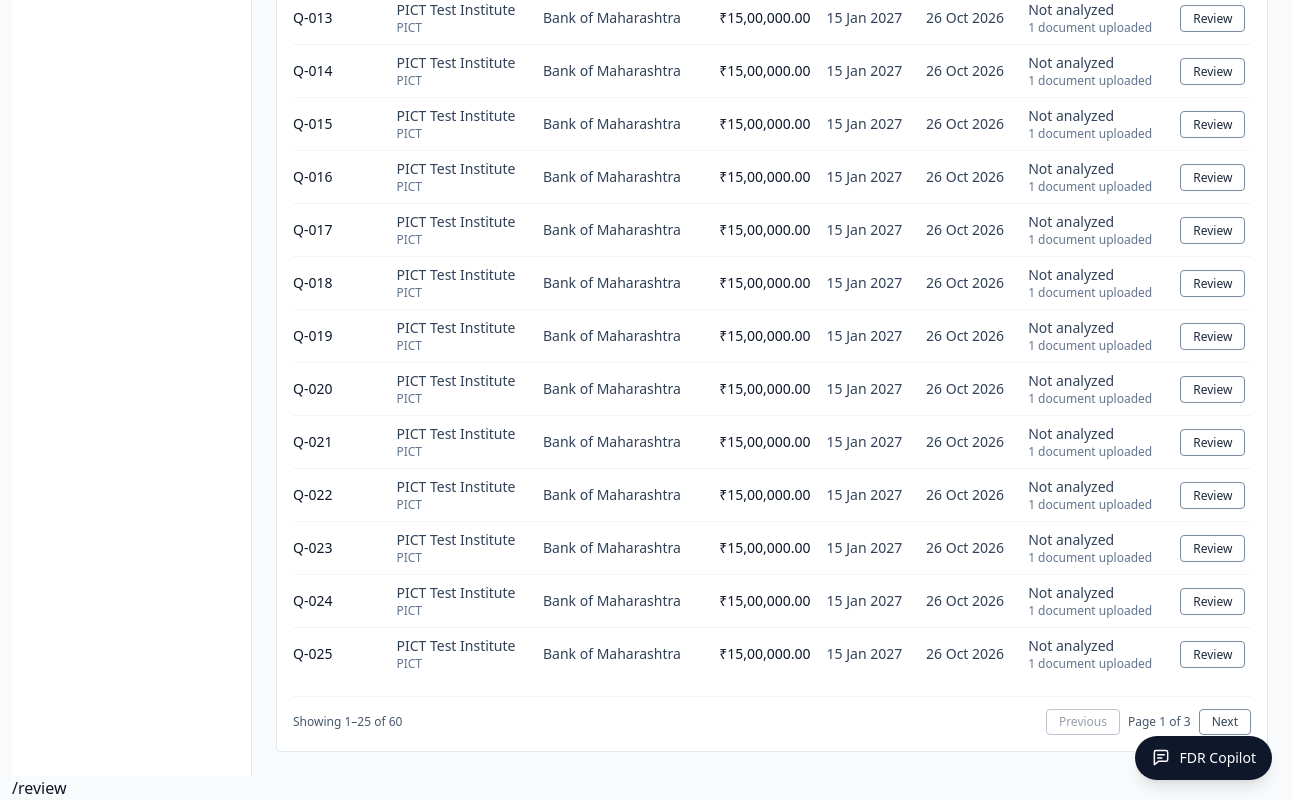
Test case: search, filters and paging › pages with the backend's totals
(page scrolled)
Expected: the text "Page 1 of 3" is shown, [1128,714,1191,730]
Expected: the text "Showing 1–25 of 60" is shown, [293,714,402,730]
Click the button "Next" at (1225, 722), box [1199,709,1251,735]
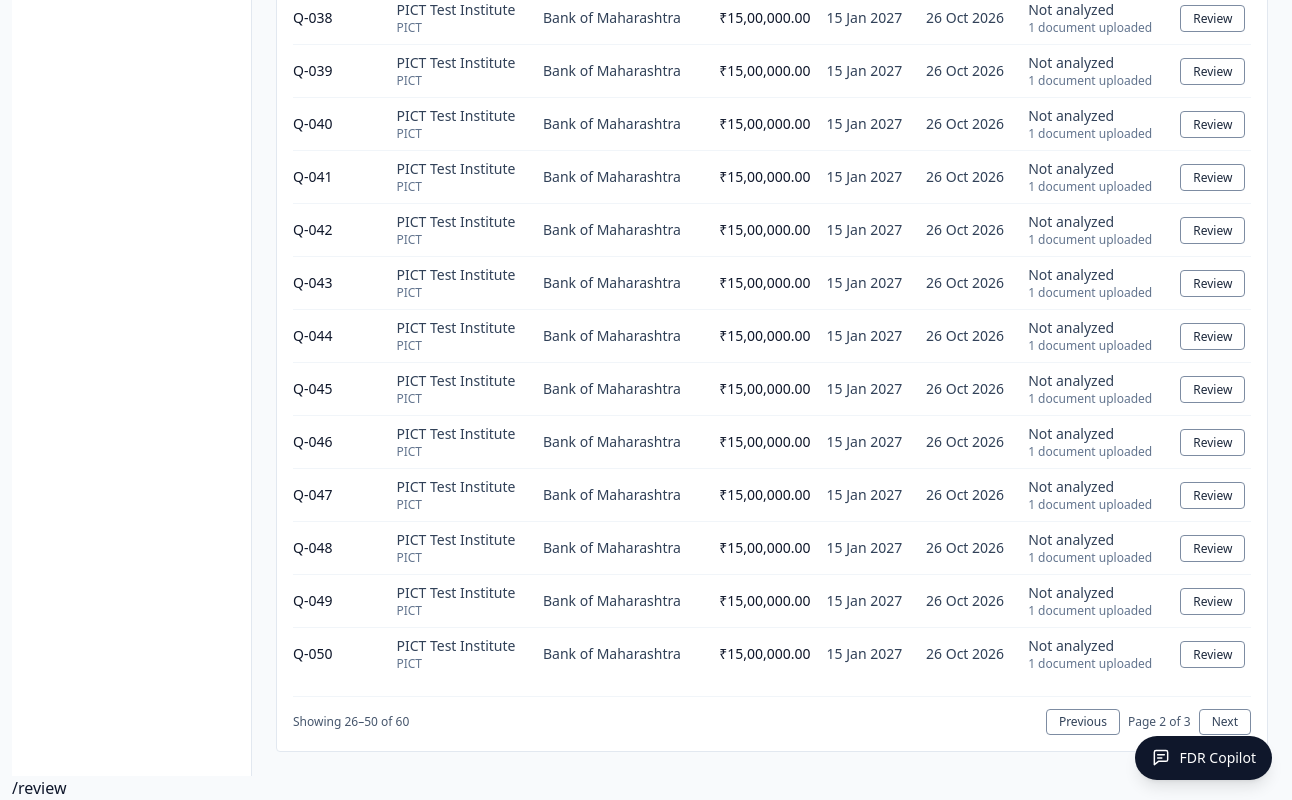
Expected: the text "Showing 26–50 of 60" is shown, [293,714,409,730]
